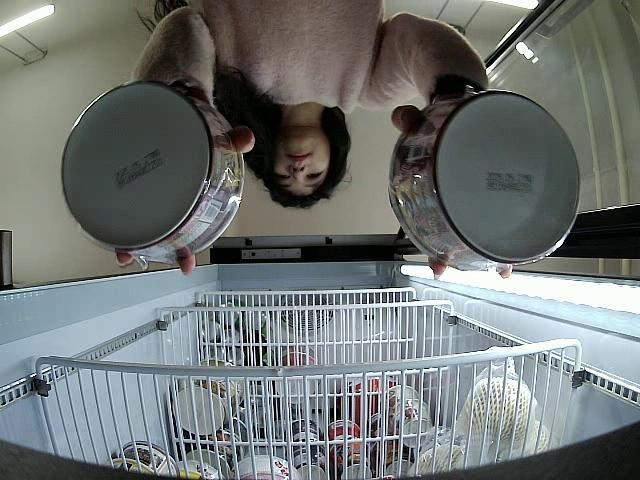05_nuguri_L: (386, 89, 584, 272), (60, 78, 246, 263)
